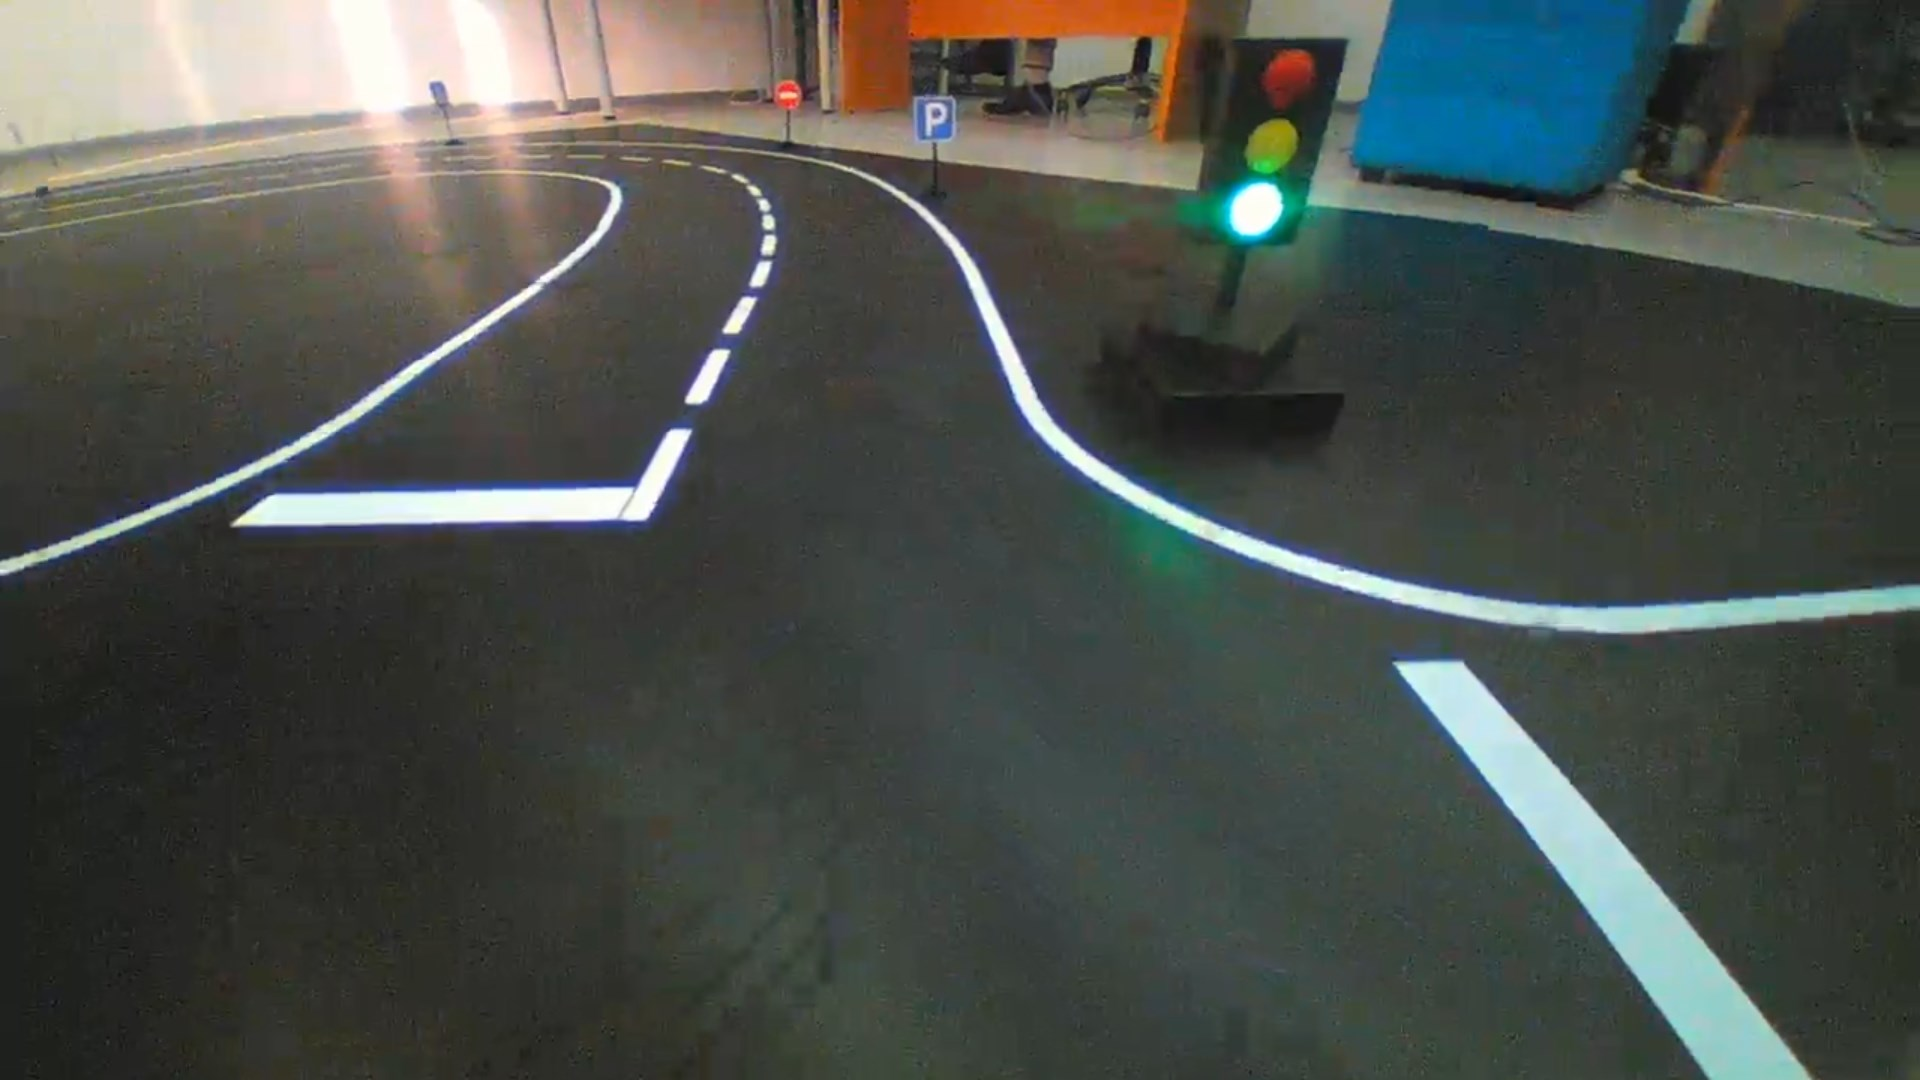trafficlight: (1189, 37, 1348, 248)
